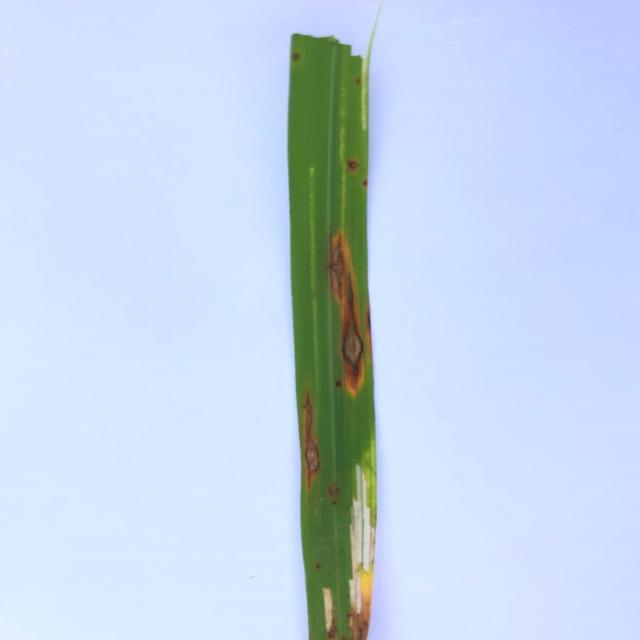leaf blast: (338, 272, 368, 396), (302, 391, 322, 488), (328, 230, 354, 304), (326, 479, 343, 506), (346, 157, 361, 176)
